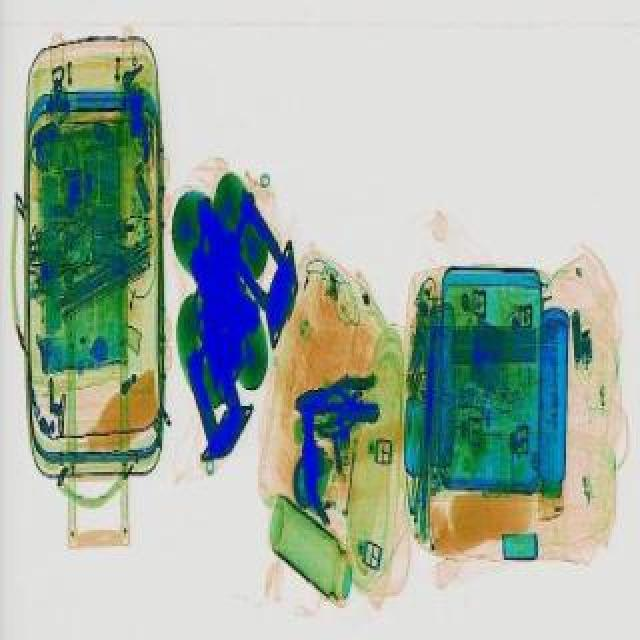wrench: (294, 372, 380, 420)
